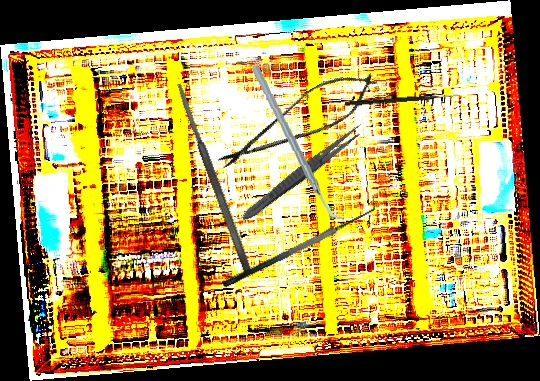Chopper: (250, 59, 345, 228)
Dressing Forceps: (238, 120, 367, 225)
Hook Surgical: (344, 92, 459, 107)
Micro Scissor: (208, 57, 388, 186)
Spatula Surgical: (215, 195, 383, 290), (174, 81, 254, 276)
